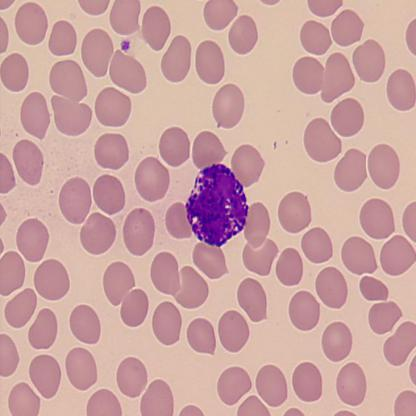Basophil: (183, 162, 251, 250)
